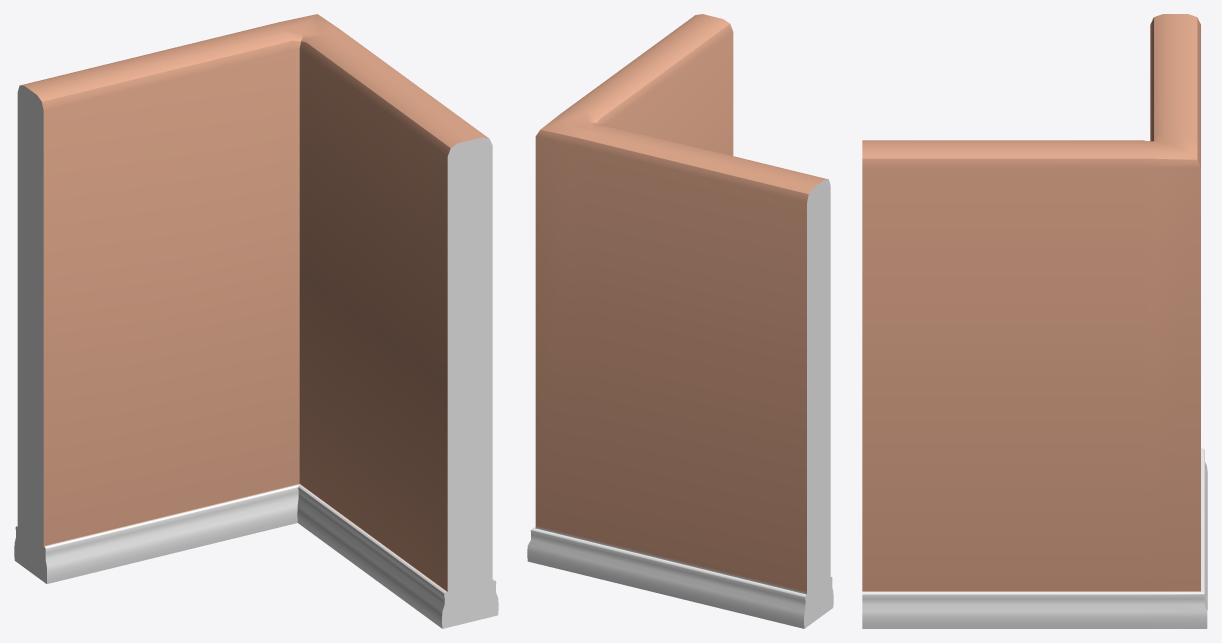
Rendered from Wall_inner_Corner_02.fbx.
The picture shows the model from 3 angles, left to right: view 1: azimuth 30°, elevation 25°; view 2: azimuth 150°, elevation 25°; view 3: azimuth 270°, elevation 25°; orthographic projection. The views are drawn at different scales.
Parts seen in each view (by area): view 1: InnerWall_Corner_00.001; view 2: InnerWall_Corner_00.001; view 3: InnerWall_Corner_00.001.
Part boxes in pixels (x1,y1,x2,y2): InnerWall_Corner_00.001: [14, 14, 498, 628]; InnerWall_Corner_00.001: [527, 14, 833, 628]; InnerWall_Corner_00.001: [862, 14, 1207, 628].
Bounding box in the file's own units: 100 × 150 × 100.
